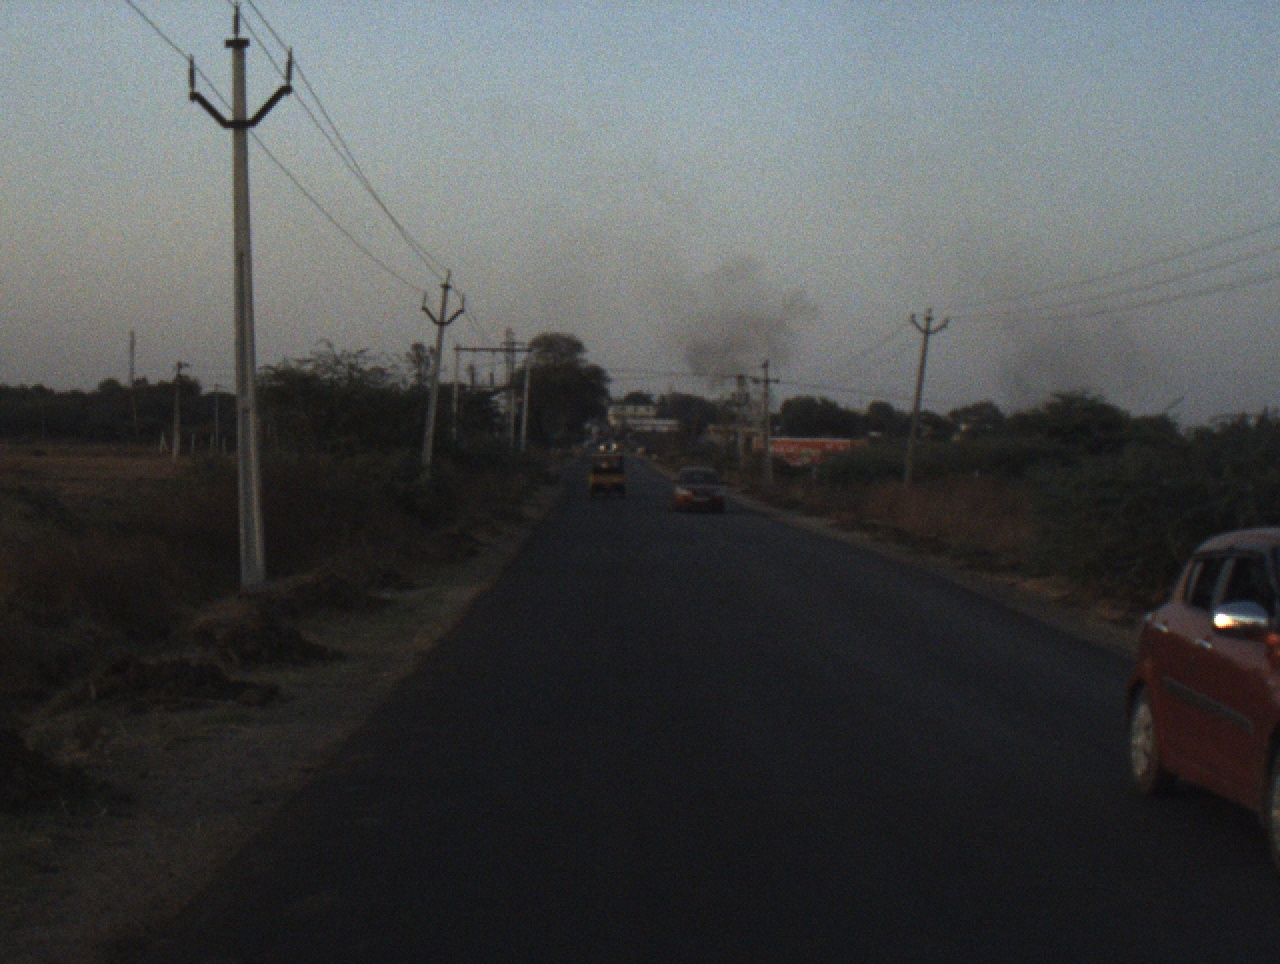autorickshaw: (583, 447, 629, 504)
car: (1108, 529, 1280, 813), (672, 461, 728, 516)
vehicle fallback: (591, 435, 619, 455)
